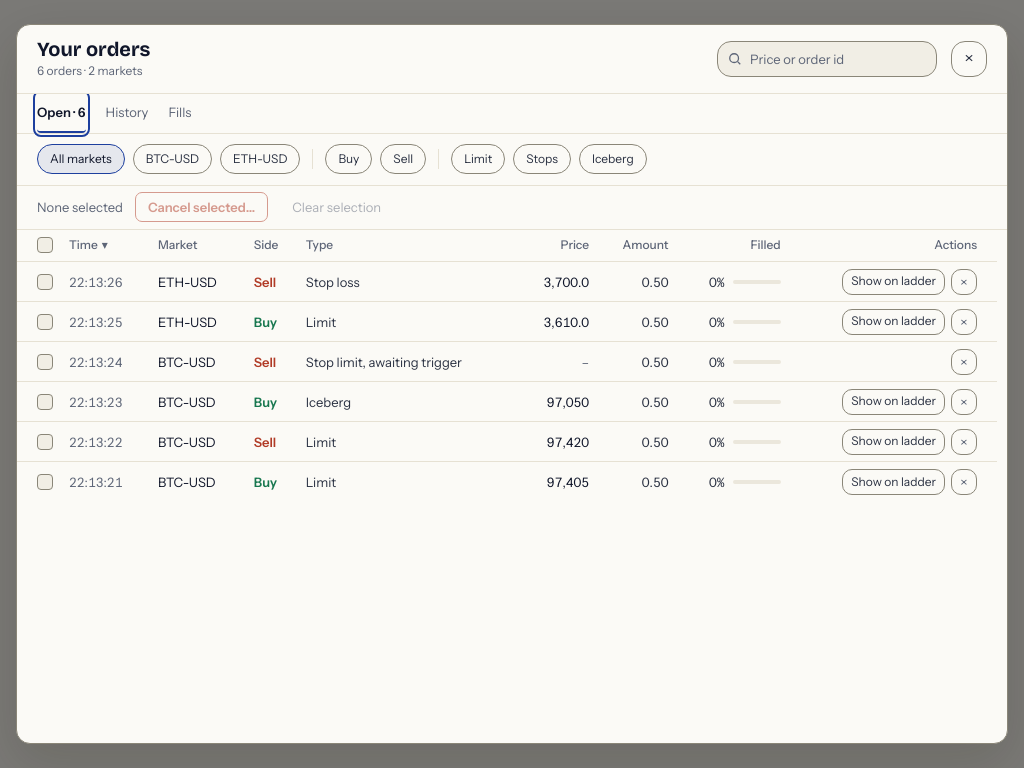
Scenario: AllOrdersDialog: Open tab › select-all: unchecked, mixed over a partial selection, checked; it covers the rows on screen
expect the checkbox named "select all" is not checked: met, box top-left (37, 237), bottom-right (53, 253)
What coordinates should you click on to do the following:
click the checkbox named "Select Buy 0.50 BTC-USD at 97,405"
I would click on:
 (45, 482)
Its box is top-left (37, 474), bottom-right (53, 490).
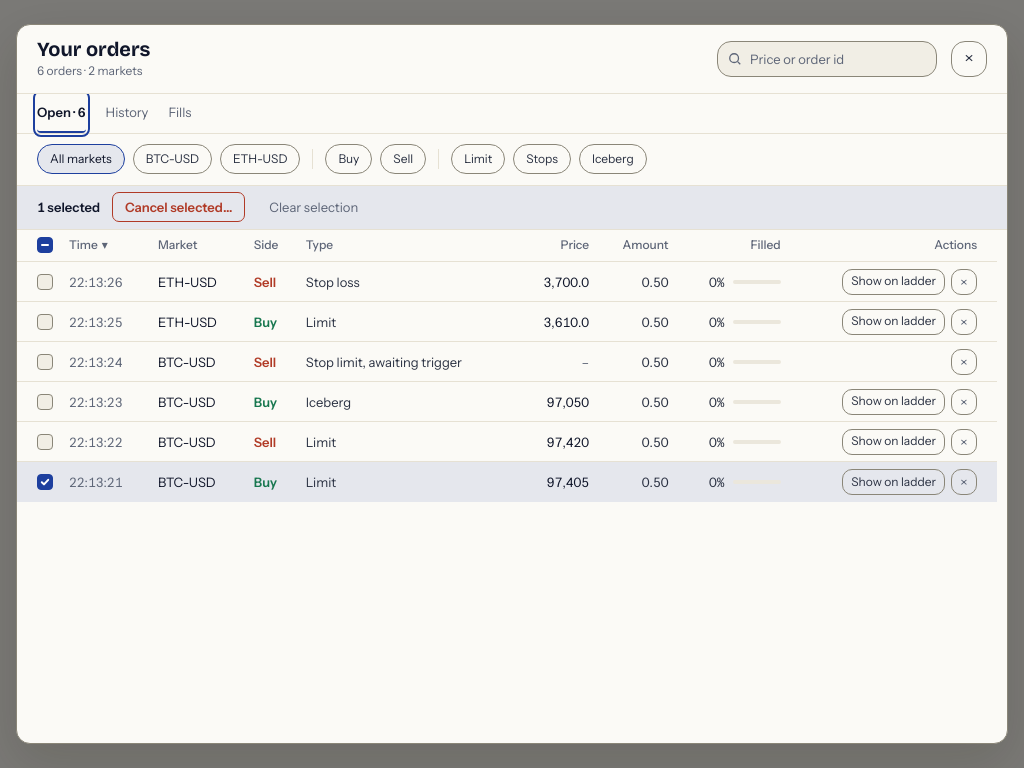
# A click on the mixed box selects every row.
What coordinates should you click on to do the following:
click the checkbox named "select all"
I would click on:
 (45, 245)
Its box is top-left (37, 237), bottom-right (53, 253).
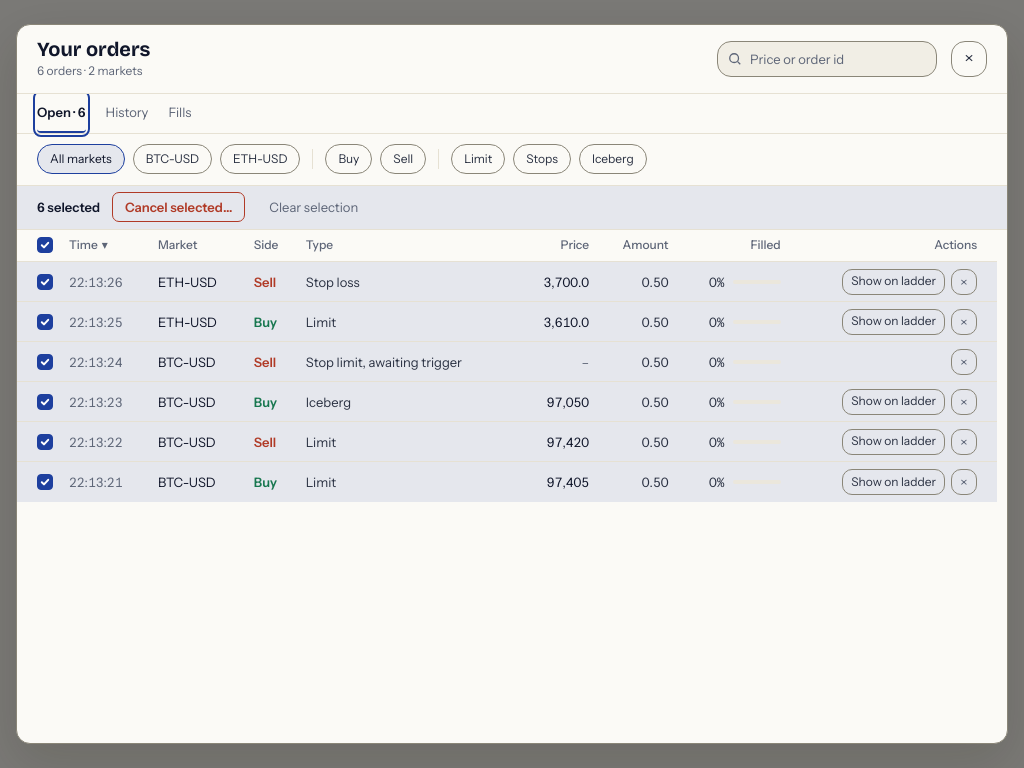
expect the checkbox named "select all" is checked: met, box top-left (37, 237), bottom-right (53, 253)
expect the text "6 selected" is shown: met, box top-left (37, 197), bottom-right (100, 217)
# Filtered: the selection keeps only the rows on screen.
What coordinates should you click on to do the following:
click the button "ETH-USD"
I would click on:
 (260, 159)
Its box is top-left (220, 144), bottom-right (300, 174).
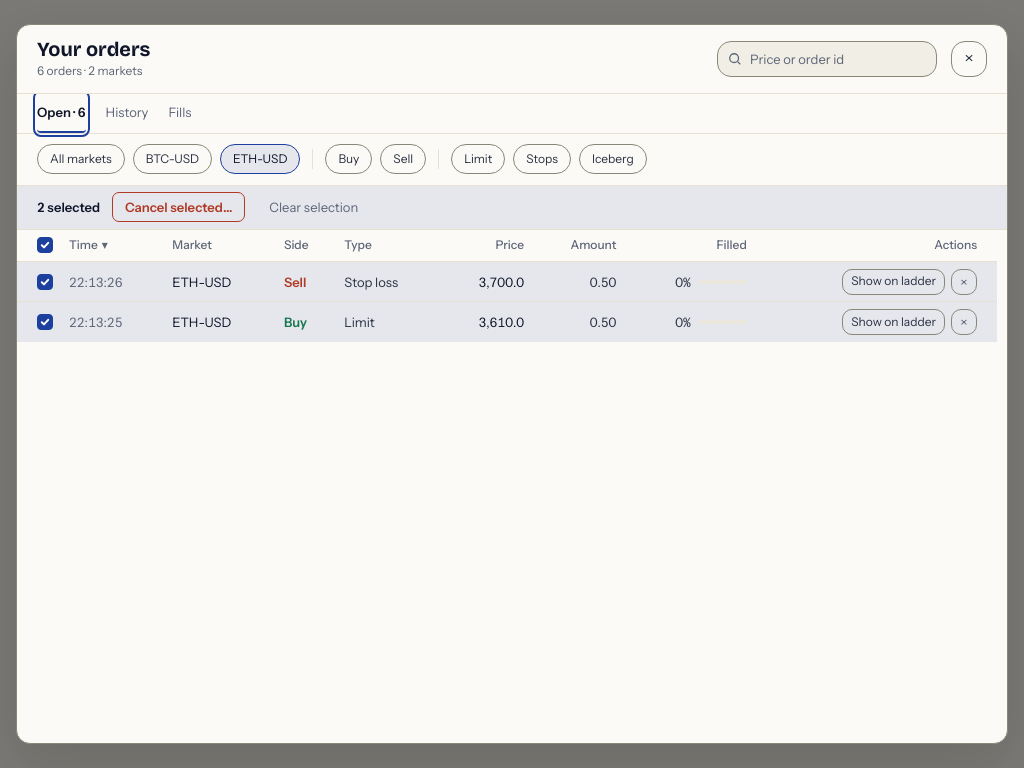
expect the checkbox named "select all" is checked: met, box top-left (37, 237), bottom-right (53, 253)
expect the text "2 selected" is shown: met, box top-left (37, 197), bottom-right (100, 217)
What coordinates should you click on to do the following:
click the button "ETH-USD"
I would click on:
 (260, 159)
Its box is top-left (220, 144), bottom-right (300, 174).
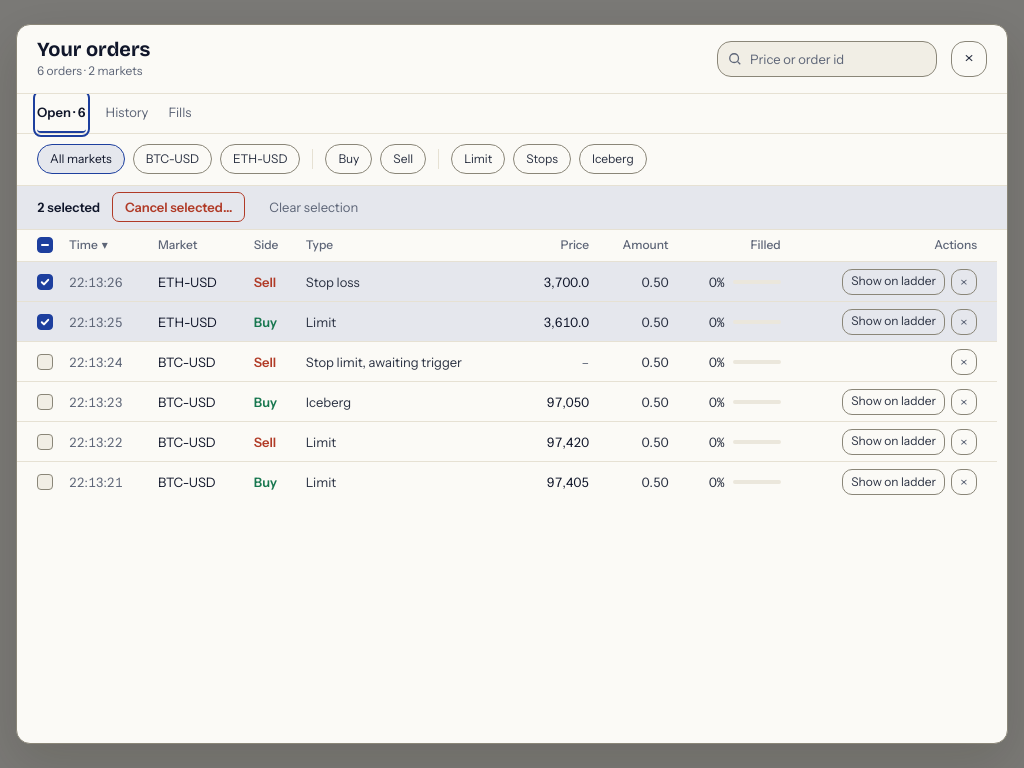
What coordinates should you click on to do the following:
click the checkbox named "select all"
I would click on:
 (45, 245)
Its box is top-left (37, 237), bottom-right (53, 253).
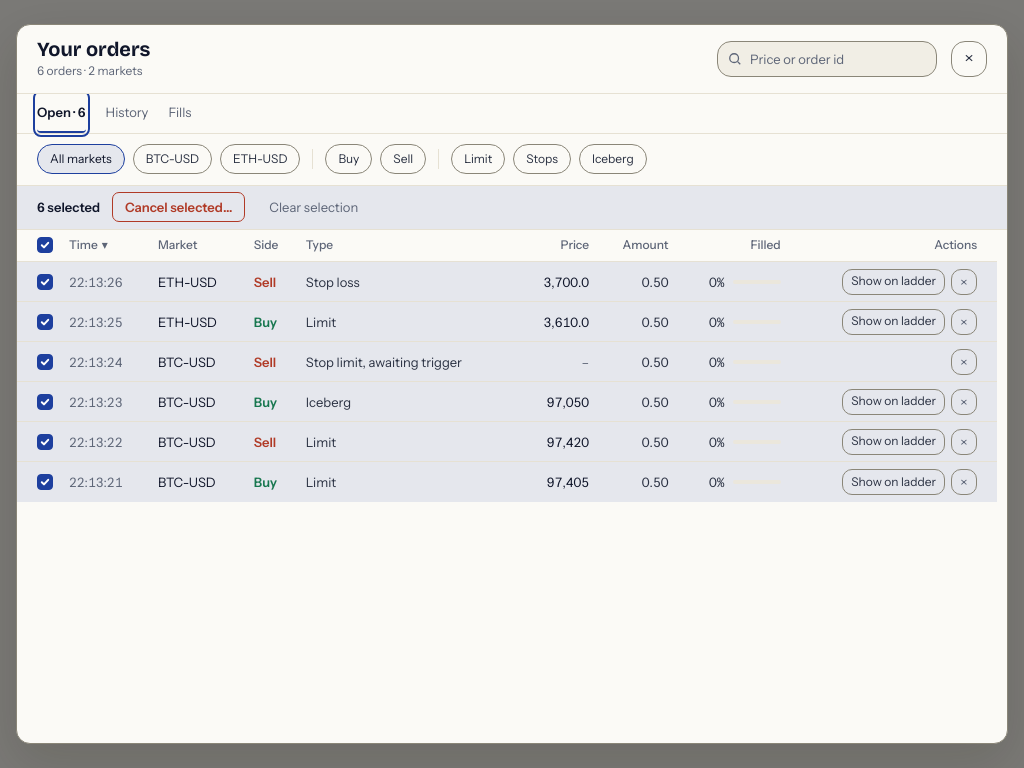
What coordinates should you click on to do the following:
click the checkbox named "select all"
I would click on:
 (45, 245)
Its box is top-left (37, 237), bottom-right (53, 253).
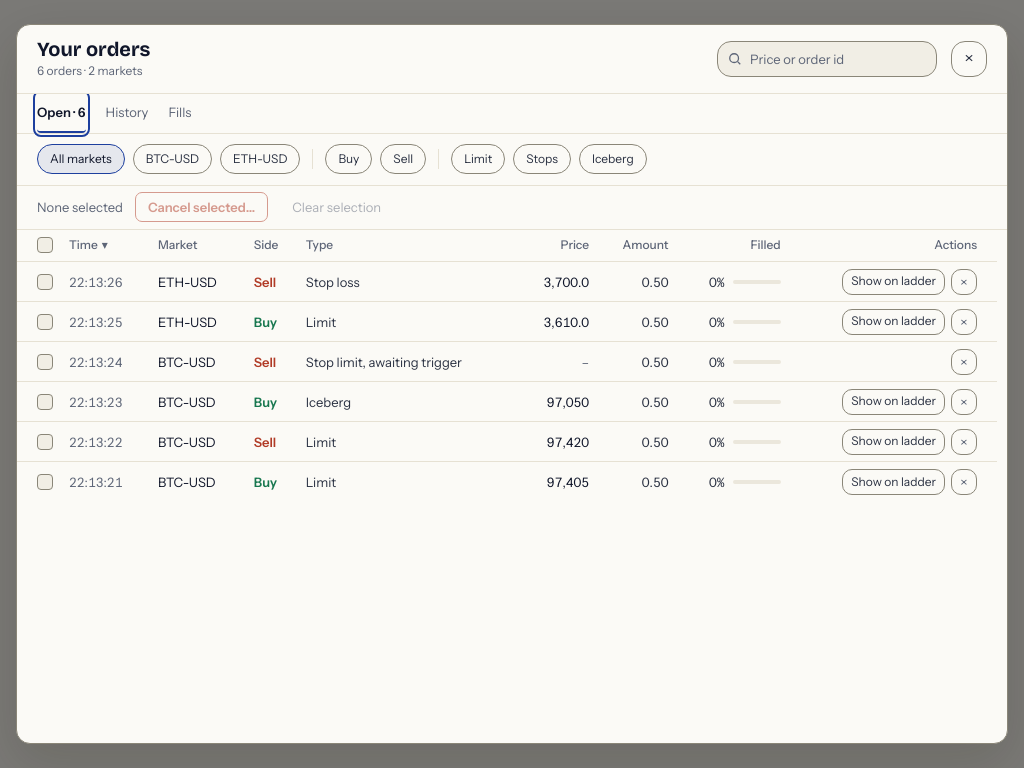
expect the checkbox named "select all" is not checked: met, box top-left (37, 237), bottom-right (53, 253)
expect the text "None selected" is shown: met, box top-left (37, 197), bottom-right (123, 217)
